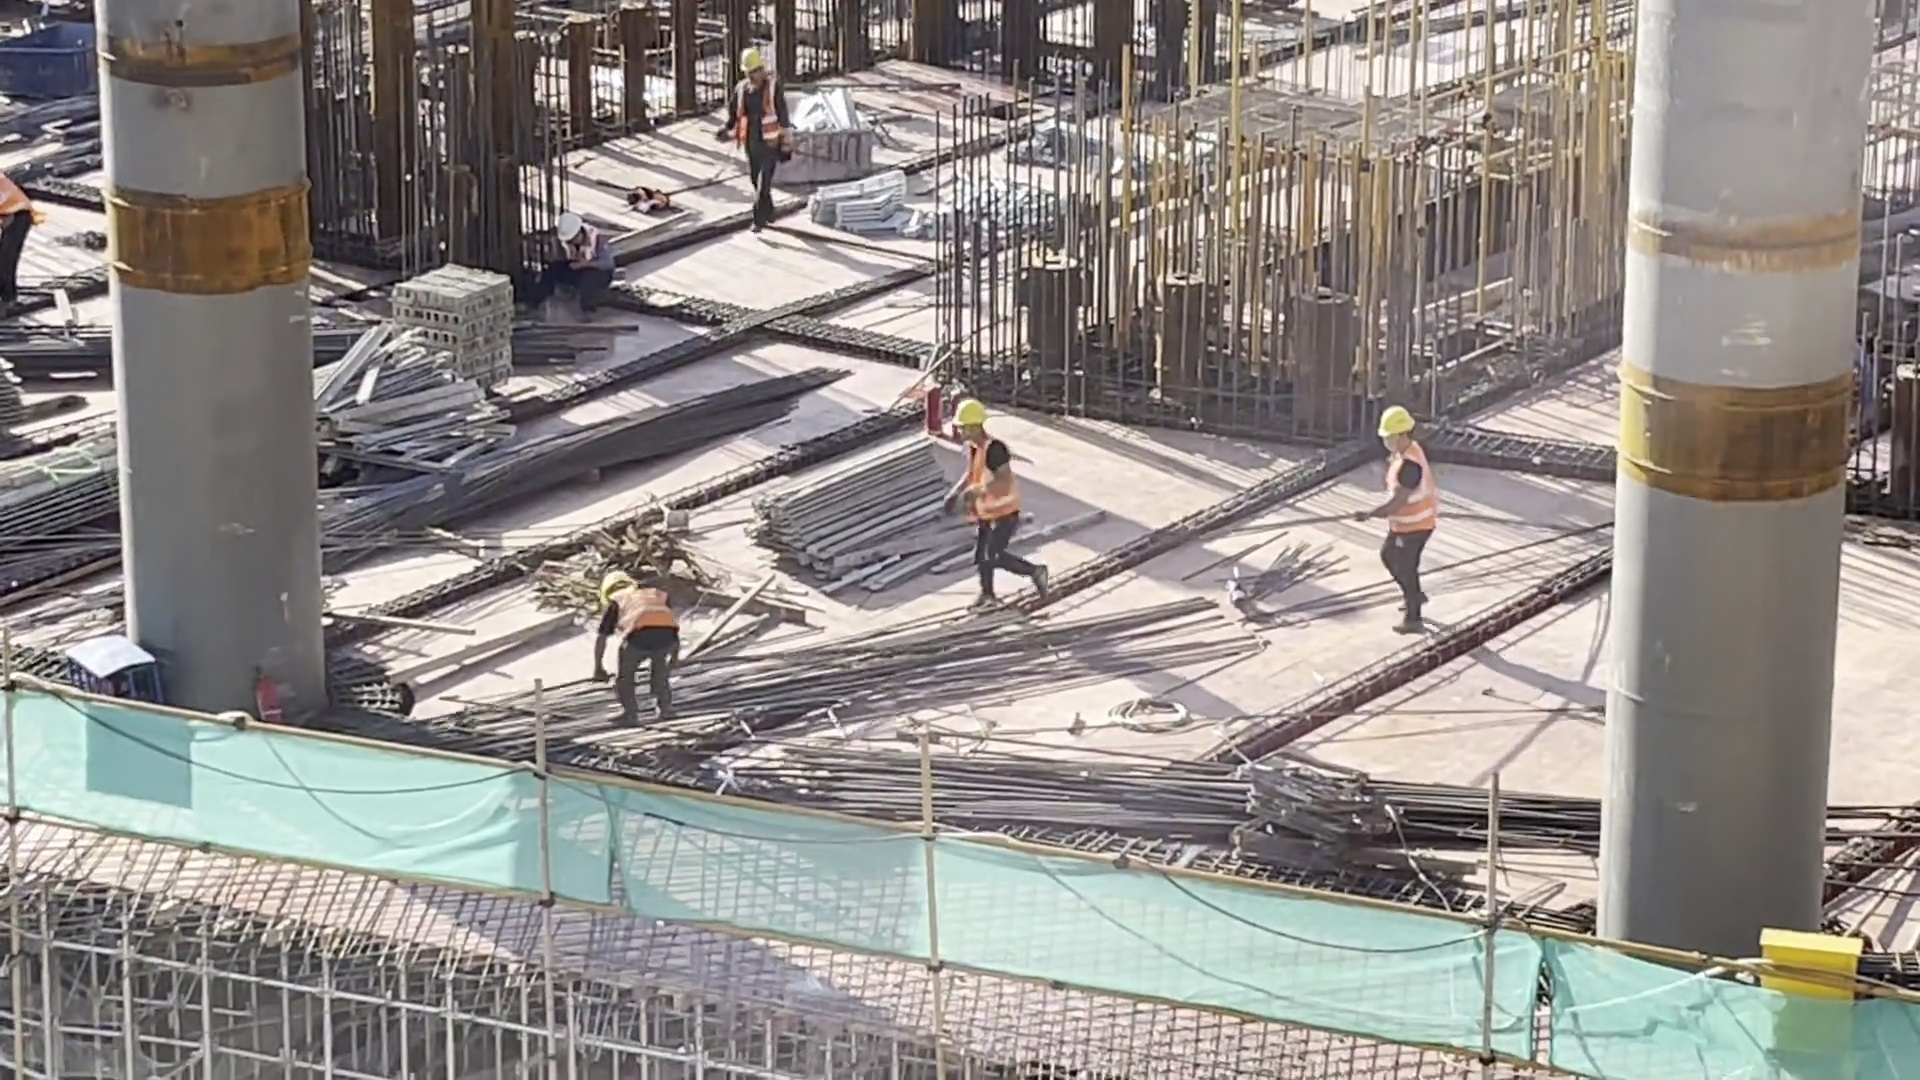ebox: (1740, 919, 1874, 1061)
helmet: (1371, 405, 1416, 439), (731, 38, 765, 78), (952, 394, 987, 431), (548, 209, 586, 242)
hopper: (760, 83, 885, 193), (1, 20, 111, 112)
person: (912, 398, 1045, 617), (1348, 398, 1466, 639), (567, 564, 697, 719), (711, 42, 807, 194), (536, 202, 629, 327)
vest: (960, 445, 1023, 527), (724, 71, 786, 139), (1394, 453, 1435, 537), (612, 578, 659, 646)
wood: (754, 433, 975, 587)
